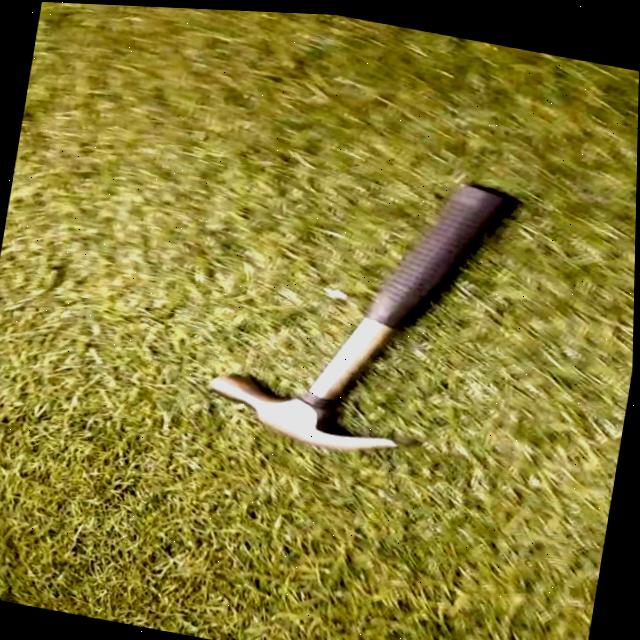hammer: (204, 140, 517, 468)
